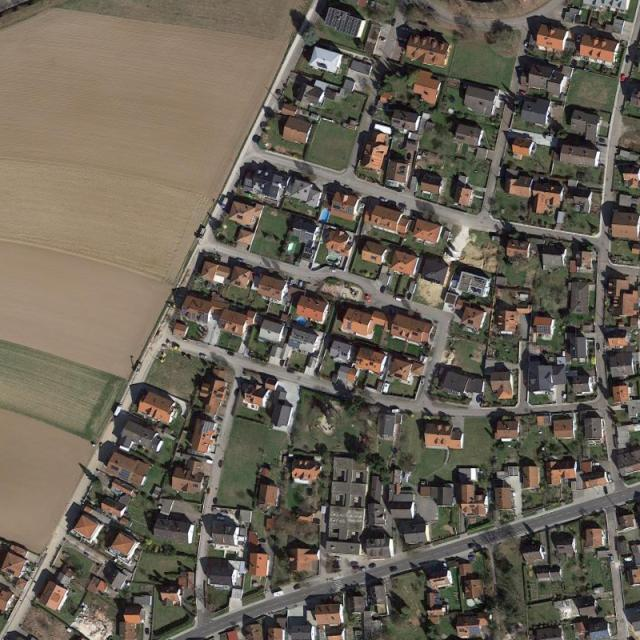vehicle: (197, 228, 206, 241), (114, 404, 123, 417), (386, 408, 401, 414), (134, 362, 142, 373), (221, 197, 228, 208), (294, 583, 302, 591), (369, 562, 378, 569), (358, 567, 367, 574), (274, 591, 285, 596), (366, 294, 372, 303), (236, 258, 246, 263), (298, 281, 305, 288), (390, 566, 398, 572), (330, 267, 338, 273), (596, 344, 602, 352), (199, 354, 208, 359), (395, 298, 404, 303), (421, 377, 426, 386), (381, 286, 386, 294), (334, 556, 342, 561), (145, 627, 150, 635), (380, 197, 387, 202), (593, 463, 600, 466), (622, 74, 625, 81)
